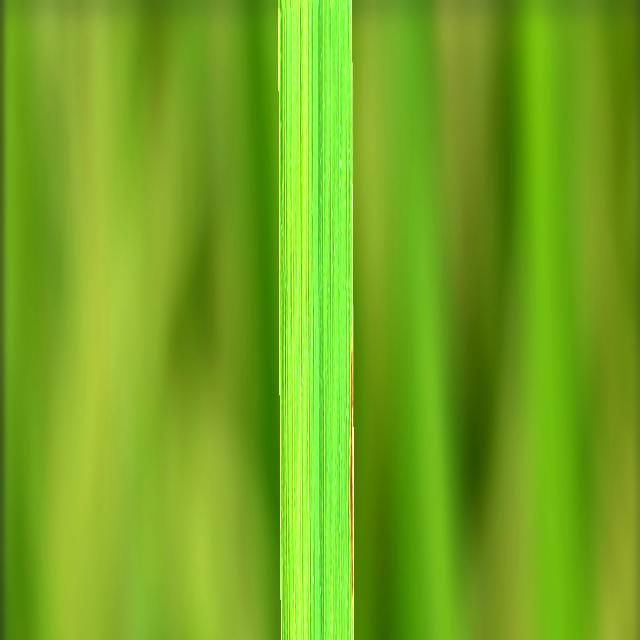NBS: (349, 338, 353, 605)
